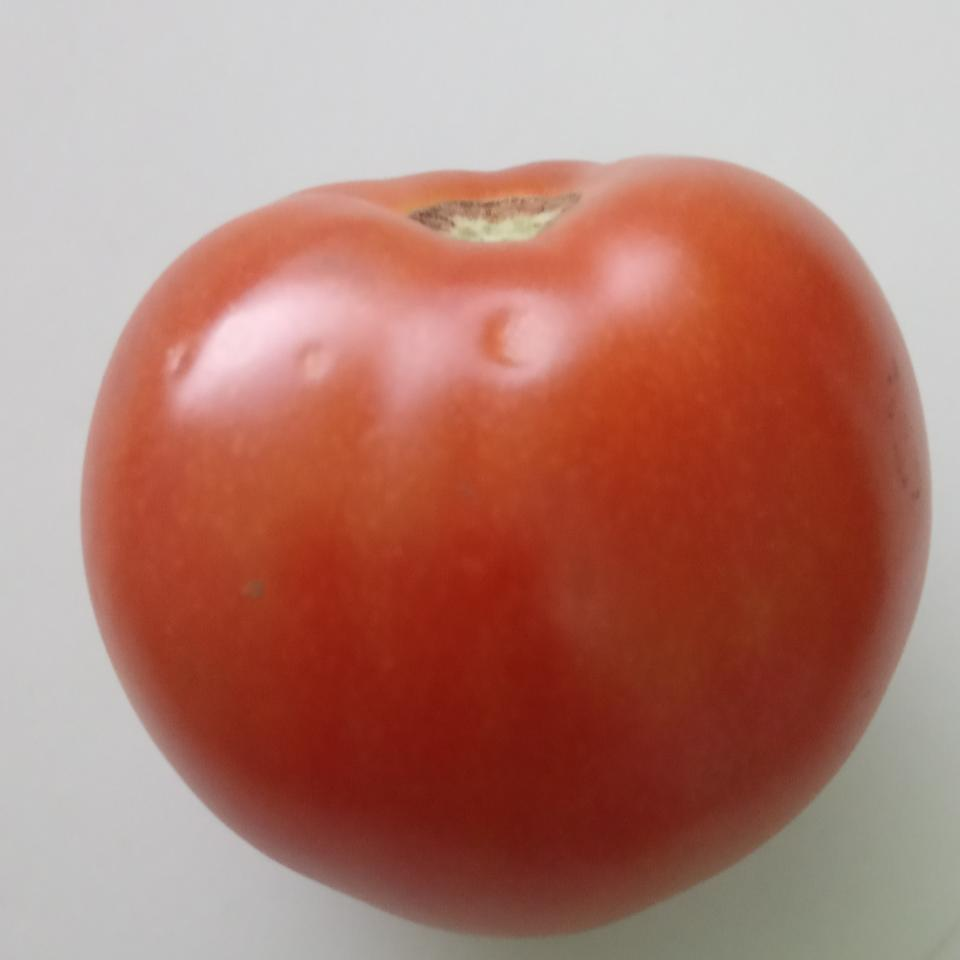Healthy: (65, 133, 944, 954)
